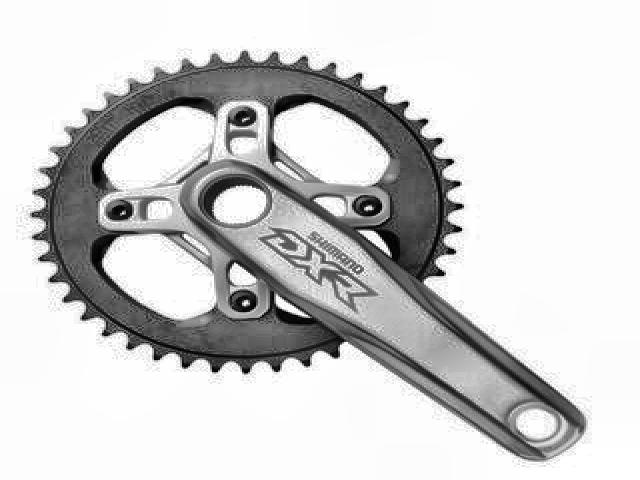cranks_set: (29, 49, 590, 463)
